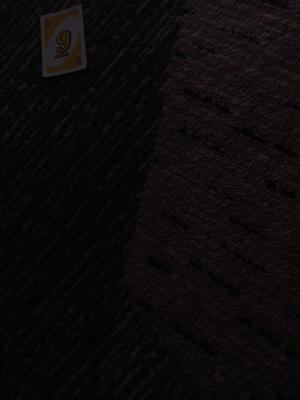num_9: (49, 26, 75, 63)
